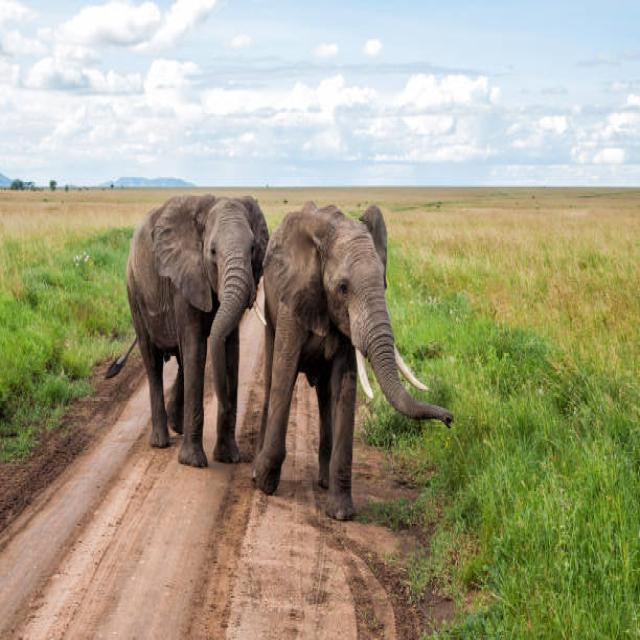Elephant: (253, 184, 462, 526), (115, 147, 267, 497)
